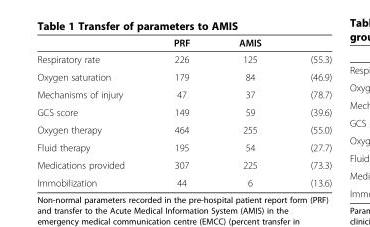table: (36, 36, 331, 188)
table column: (36, 36, 148, 188), (213, 36, 285, 188), (148, 36, 213, 188), (285, 36, 331, 188)
table column header: (36, 36, 331, 50)
table row: (36, 67, 331, 85), (36, 85, 331, 103), (36, 120, 331, 138), (36, 155, 331, 173), (36, 50, 331, 67), (36, 103, 331, 120), (36, 138, 331, 155), (36, 173, 331, 188), (36, 36, 331, 50)
